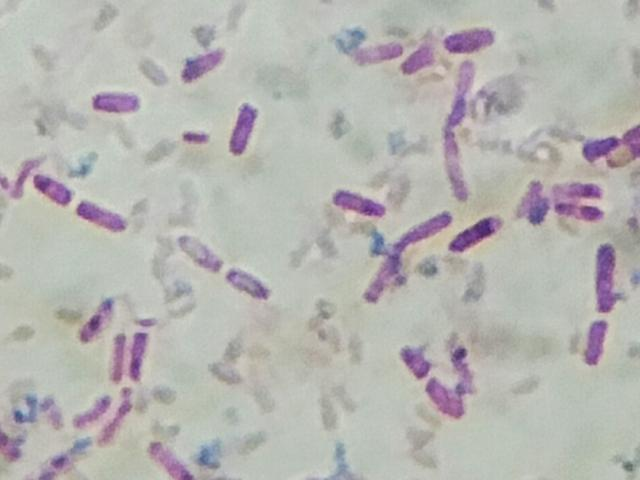E. coli: (442, 110, 473, 200), (592, 233, 622, 314), (415, 376, 465, 423), (325, 182, 385, 221), (173, 46, 230, 87), (86, 80, 147, 118), (105, 389, 147, 442), (515, 170, 551, 230), (225, 262, 272, 306), (362, 245, 398, 302), (229, 99, 262, 161), (76, 195, 126, 235), (444, 23, 502, 57), (151, 437, 195, 480), (455, 215, 508, 250), (551, 170, 606, 203), (452, 57, 482, 115), (178, 232, 222, 271), (28, 167, 67, 211), (72, 296, 115, 335), (43, 437, 87, 475), (99, 330, 129, 382), (401, 210, 451, 241), (586, 321, 616, 370), (556, 199, 612, 225), (358, 33, 408, 62), (405, 39, 439, 79), (126, 322, 153, 371), (75, 390, 112, 423), (396, 346, 432, 377), (582, 128, 620, 155), (613, 113, 640, 147), (611, 140, 634, 174), (183, 126, 214, 147)
